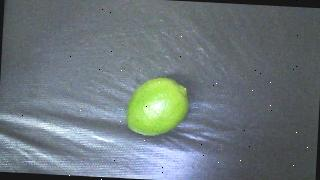LOCAL: (126, 76, 190, 137)
